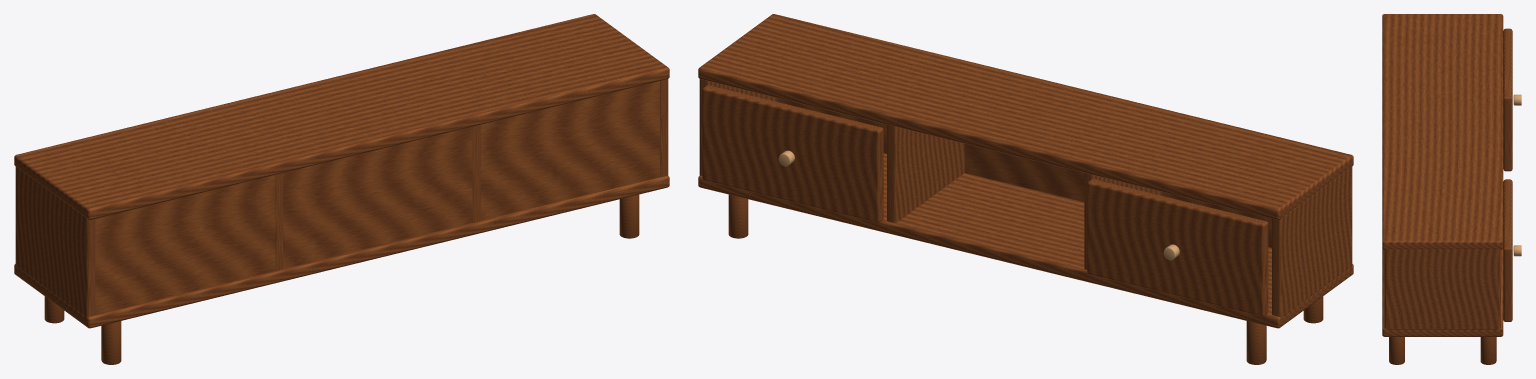
Rendered from Tripo_TvCabinet.fbx.
The picture shows the model from 3 angles, left to right: view 1: azimuth 30°, elevation 25°; view 2: azimuth 150°, elevation 25°; view 3: azimuth 270°, elevation 25°; orthographic projection. The views are drawn at different scales.
Parts seen in each view (by area): view 1: tv_cabinet_mesh; view 2: tv_cabinet_mesh; view 3: tv_cabinet_mesh.
Boxes of the visible parts, x1,y1,x2,y2 form: tv_cabinet_mesh: [14, 14, 669, 364]; tv_cabinet_mesh: [698, 14, 1353, 364]; tv_cabinet_mesh: [1382, 14, 1521, 364].
Size of the model in its own units: 3.56 by 0.9682 by 0.92.
Materials: 2 (1 with a texture image).
